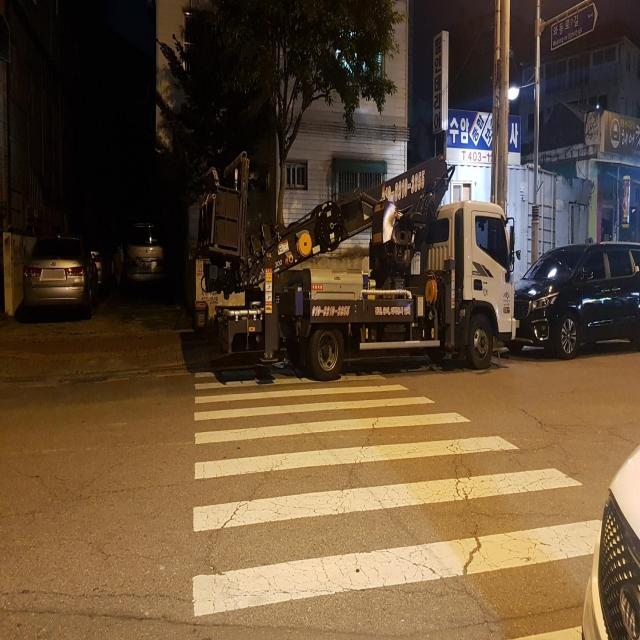횡단보도: (191, 370, 603, 639)
